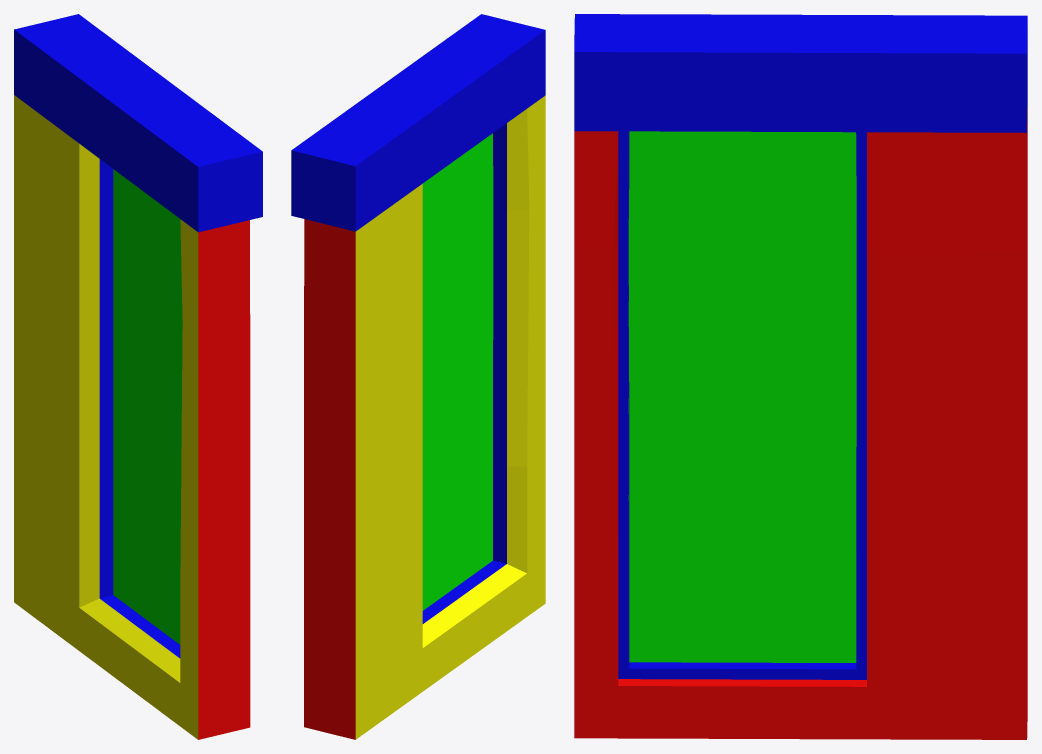
Rendered from LongWindowWall.fbx.
The picture shows the model from 3 angles, left to right: view 1: azimuth 30°, elevation 25°; view 2: azimuth 150°, elevation 25°; view 3: azimuth 270°, elevation 25°; orthographic projection. The views are drawn at different scales.
Parts seen in each view (by area): view 1: Wall; view 2: Wall; view 3: Wall.
Part boxes in pixels (<box>): Wall: <box>14,14,262,739</box>; Wall: <box>291,14,545,739</box>; Wall: <box>574,14,1027,739</box>.
Bounding box in the file's own units: 264 × 54.64 × 445.
